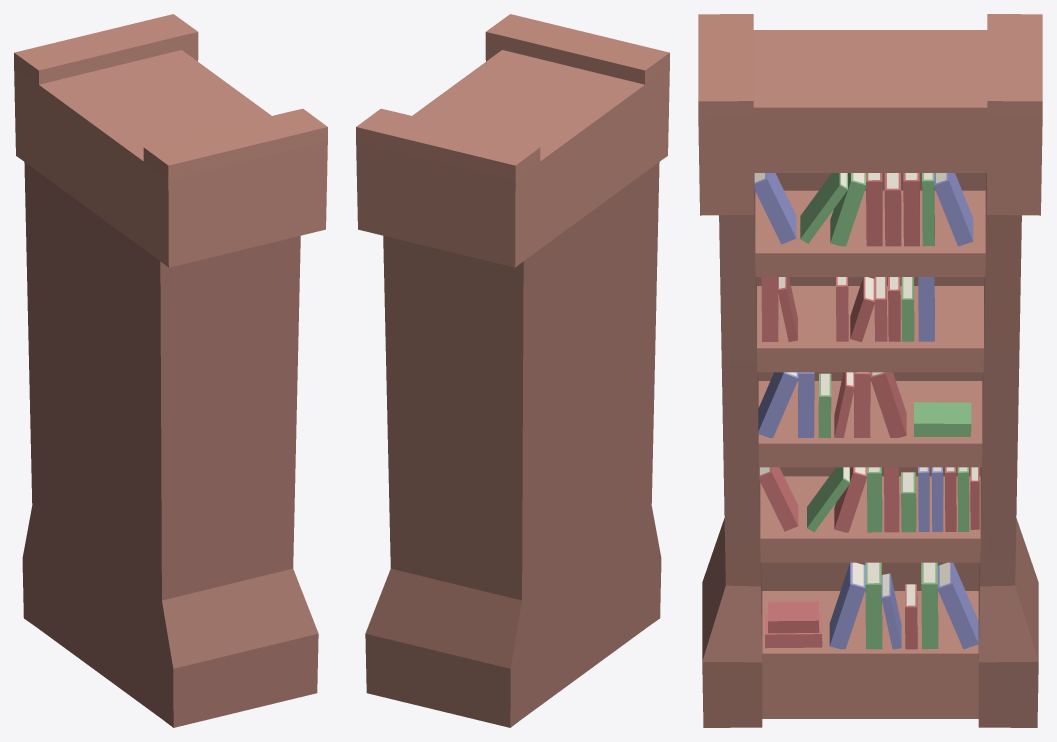
File: BookCaseBooks.glb
The picture shows the model from 3 angles, left to right: view 1: azimuth 30°, elevation 25°; view 2: azimuth 150°, elevation 25°; view 3: azimuth 270°, elevation 25°; orthographic projection. The views are drawn at different scales.
Parts seen in each view (by area): view 1: DarkWood.003, Wood.005; view 2: DarkWood.003, Wood.005; view 3: Wood.005, DarkWood.003, Cover3, Cover2, Cover4, Sofa, Pages.
Part boxes in pixels (x1,y1,x2,y2): DarkWood.003: (22,162,318,727); Wood.005: (14,14,327,267); DarkWood.003: (365,162,661,727); Wood.005: (356,14,669,267); Wood.005: (698,14,1042,718); DarkWood.003: (702,173,1038,727); Cover3: (800,173,971,649); Cover2: (754,173,978,649); Cover4: (768,173,979,649); Sofa: (759,277,899,648); Pages: (754,173,977,640).
Bounding box in the file's own units: 0.4519 × 1.53 × 0.7577.
